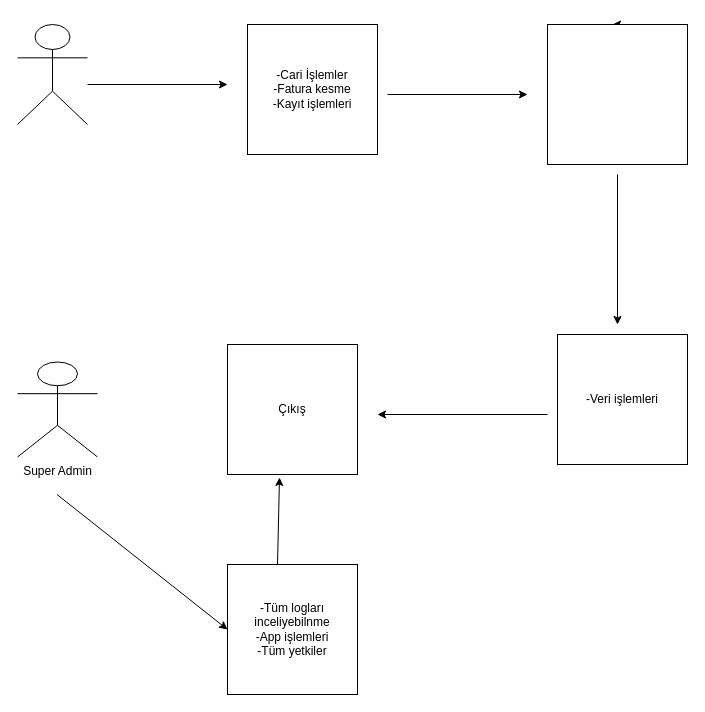
Some shapes in this 705 by 712 pixel diagram are drawn without their labels. The shapes that lost their labels are listed below. From the top down, each one's box as (x1, y1, x2, y2) in pixels, then its label:
(16, 24, 88, 124): User
(546, 24, 688, 164): -Uygulama veri tabanına kayıt
